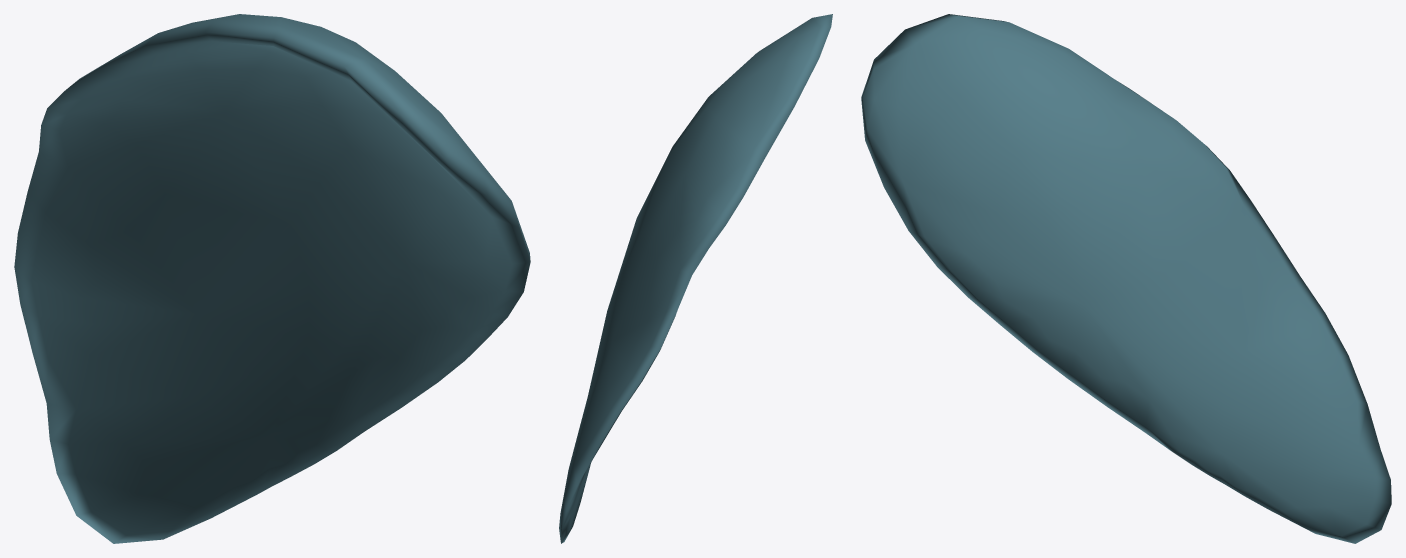
File: Extensor_hallucis_brevis_dorsal_surface_calcaneus_left.glb
The picture shows the model from 3 angles, left to right: view 1: azimuth 30°, elevation 25°; view 2: azimuth 150°, elevation 25°; view 3: azimuth 270°, elevation 25°; orthographic projection. The views are drawn at different scales.
Visible parts, largest first — view 1: Extensor_hallucis_brevis_on_dorsal_surface_of_calcaneus.l_Ge; view 2: Extensor_hallucis_brevis_on_dorsal_surface_of_calcaneus.l_Ge; view 3: Extensor_hallucis_brevis_on_dorsal_surface_of_calcaneus.l_Ge.
Part boxes in pixels (bbox=[...]): Extensor_hallucis_brevis_on_dorsal_surface_of_calcaneus.l_Ge: bbox=[14, 14, 530, 543]; Extensor_hallucis_brevis_on_dorsal_surface_of_calcaneus.l_Ge: bbox=[559, 14, 832, 543]; Extensor_hallucis_brevis_on_dorsal_surface_of_calcaneus.l_Ge: bbox=[861, 14, 1391, 543].
Bounding box in the file's own units: 0.00546 × 0.0136 × 0.0137.
